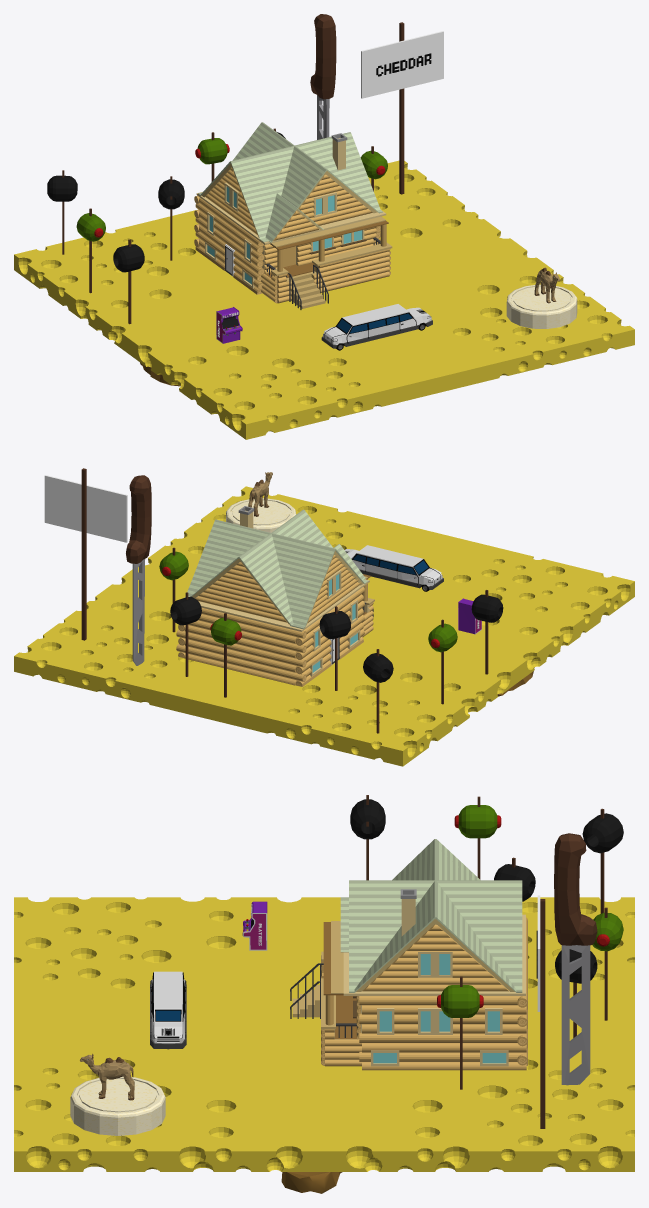
3 views of the same model, one above another, from view 1: azimuth 30°, elevation 25°; view 2: azimuth 150°, elevation 25°; view 3: azimuth 270°, elevation 25° (orthographic). The views are drawn at different scales.
Visible parts, largest first — view 1: Cube.022, Cube.1516, Cube.023, VEHICLES_LIMOUSINE, Cylinder.016, Cube.024, Sphere.017, Sphere.016, Sphere.020, Sphere.018, OBJRANDOM_ARCADE, Sphere.022 (+1 smaller); view 2: Cube.022, Cube.1516, Cube.023, Cube.024, VEHICLES_LIMOUSINE, Cylinder.016, Sphere.017, Sphere.021, Sphere.016, Sphere.020, Sphere.022, Sphere.018 (+3 smaller); view 3: Cube.022, Cube.1516, Cube.024, Cylinder.016, VEHICLES_LIMOUSINE, Cube.023, Sphere.016, Sphere.019, Sphere.018, Sphere.017, Sphere.022, ANIMAL_CAMELLO (+4 smaller).
Boxes of the visible parts, box(x1,y1,x2,y2) form: Cube.022: box(14, 160, 634, 439); Cube.1516: box(194, 122, 392, 309); Cube.023: box(361, 22, 443, 194); VEHICLES_LIMOUSINE: box(321, 304, 432, 350); Cylinder.016: box(506, 284, 577, 328); Cube.024: box(310, 14, 336, 139); Sphere.017: box(113, 239, 144, 324); Sphere.016: box(47, 170, 77, 254); Sphere.020: box(158, 176, 184, 260); Sphere.018: box(76, 208, 105, 293); OBJRANDOM_ARCADE: box(216, 307, 242, 343); Sphere.022: box(195, 132, 229, 181); Cube.022: box(14, 486, 634, 766); Cube.1516: box(176, 506, 374, 686); Cube.023: box(44, 468, 127, 640); Cube.024: box(126, 475, 151, 665); VEHICLES_LIMOUSINE: box(344, 545, 443, 591); Cylinder.016: box(226, 498, 296, 532); Sphere.017: box(471, 590, 503, 674); Sphere.021: box(170, 592, 201, 676); Sphere.016: box(363, 649, 393, 733); Sphere.020: box(319, 606, 350, 690); Sphere.022: box(210, 613, 241, 697); Sphere.018: box(428, 619, 457, 704); Cube.022: box(14, 897, 634, 1171); Cube.1516: box(290, 839, 527, 1070); Cube.024: box(554, 833, 597, 1085); Cylinder.016: box(70, 1076, 165, 1135); VEHICLES_LIMOUSINE: box(150, 971, 186, 1049); Cube.023: box(536, 895, 545, 1128); Sphere.016: box(582, 808, 623, 913); Sphere.019: box(437, 976, 483, 1089); Sphere.018: box(454, 796, 501, 879); Sphere.017: box(350, 795, 385, 880); Sphere.022: box(592, 907, 623, 1020); ANIMAL_CAMELLO: box(80, 1053, 134, 1100).
Bounding box in the file's own units: 3928 × 2120 × 4000.
Materials: 46 (4 with a texture image).
